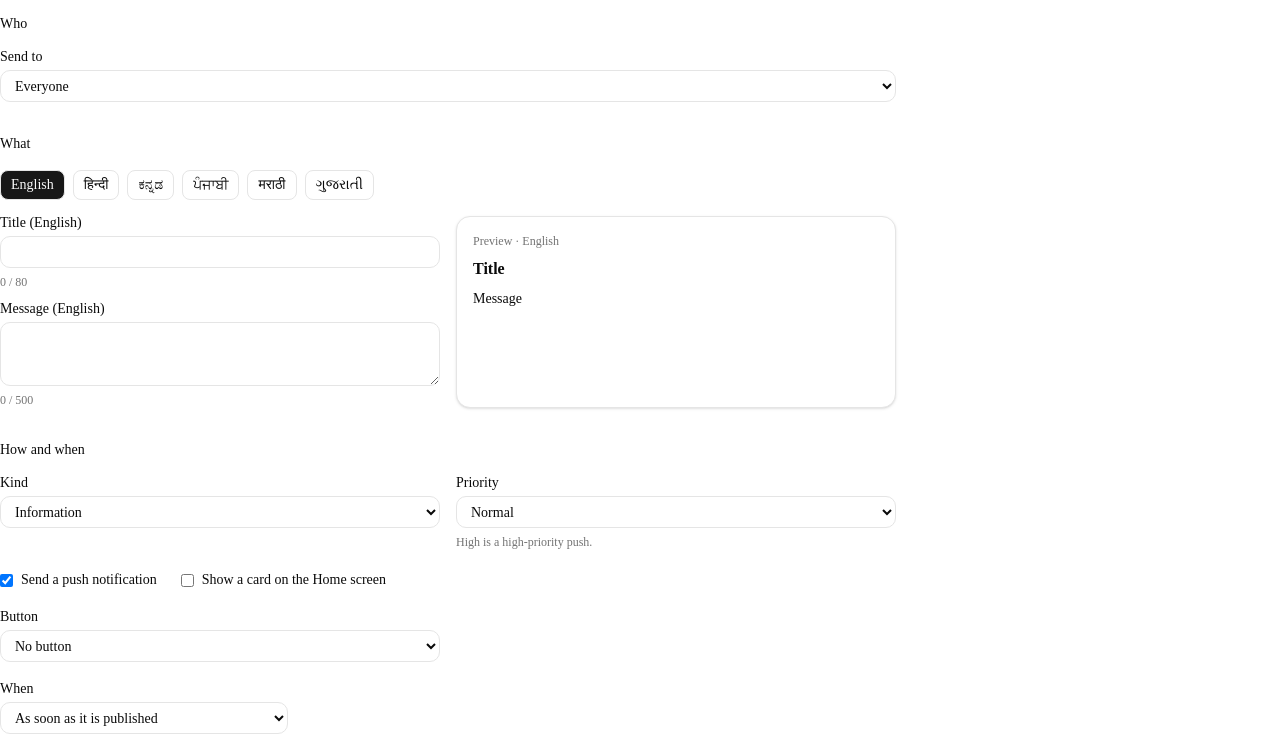
Scenario: publishing a new announcement › cannot be edited, or started twice, while the draft is being saved and counted
Type "Get 10% extra" into the field labelled "Title (English)" at (220, 252), box [0,236,440,268]
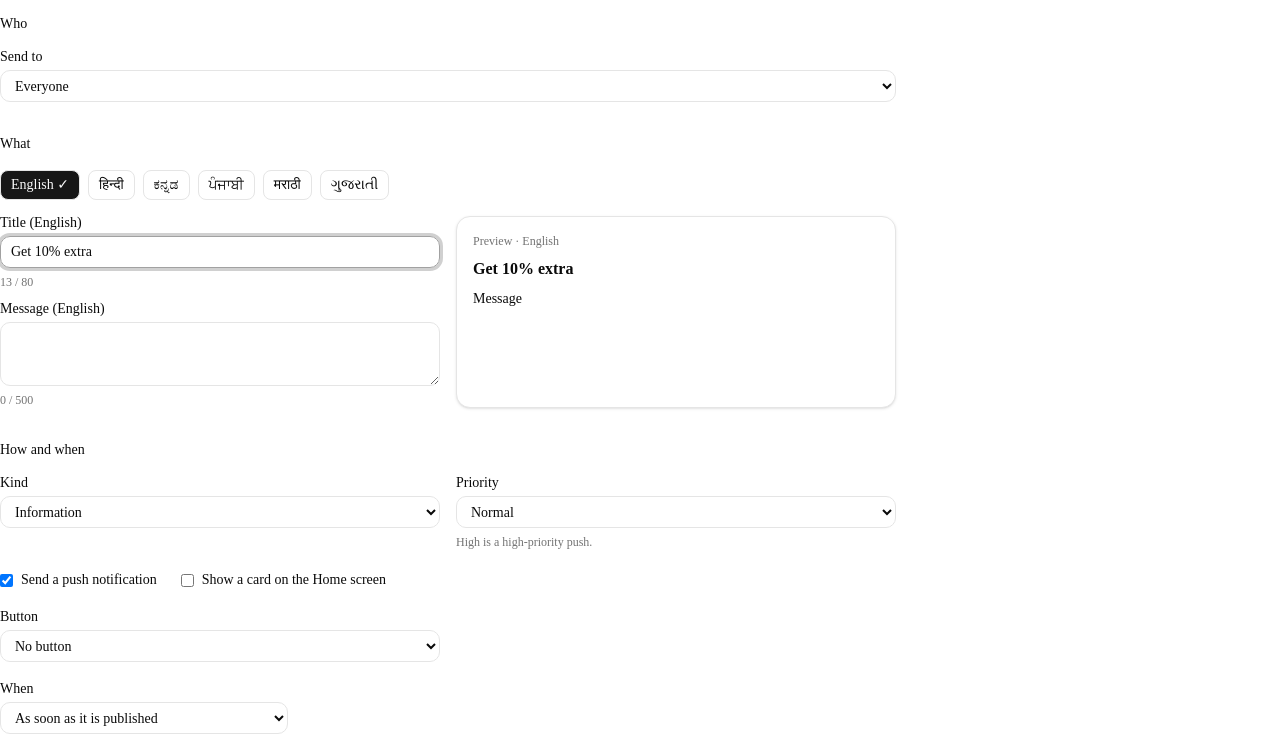
Type "Recharge this week." into the text box labelled "Message (English)" at (220, 354), box [0,322,440,386]
(page scrolled)
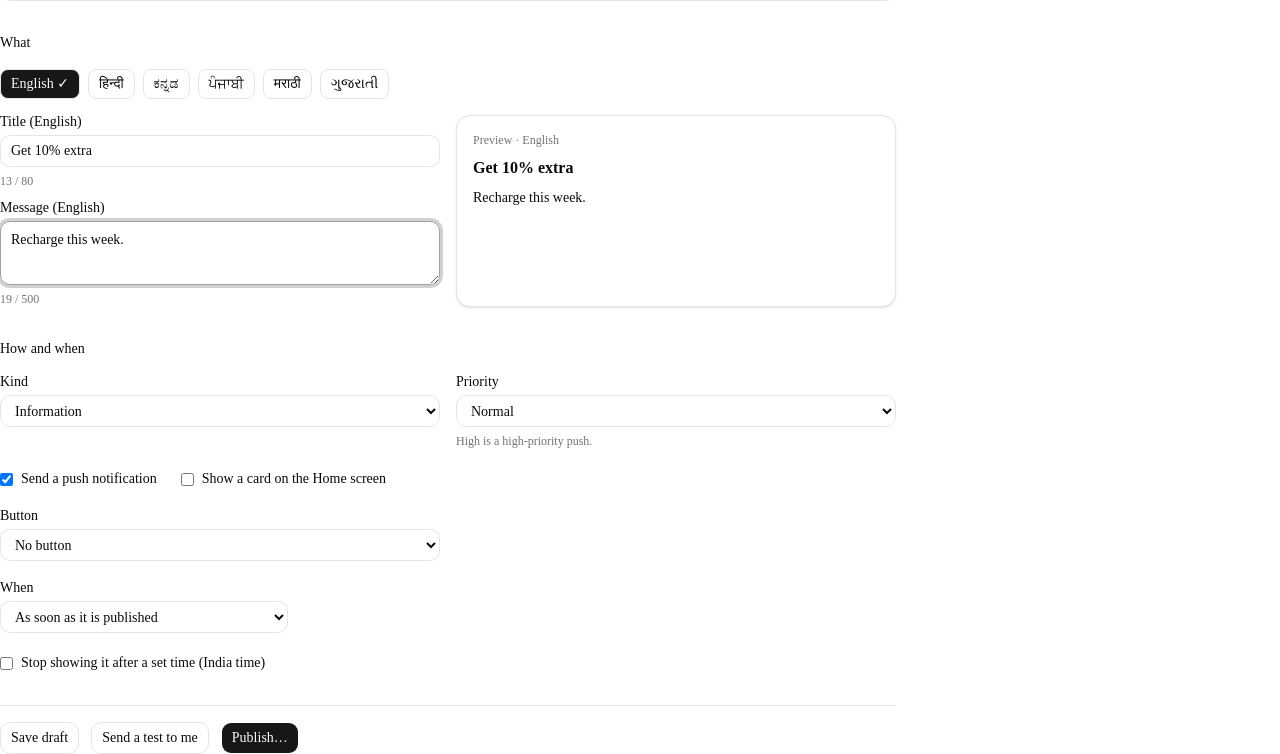
Click the button "Publish…" at (260, 738), box [221,722,299,753]
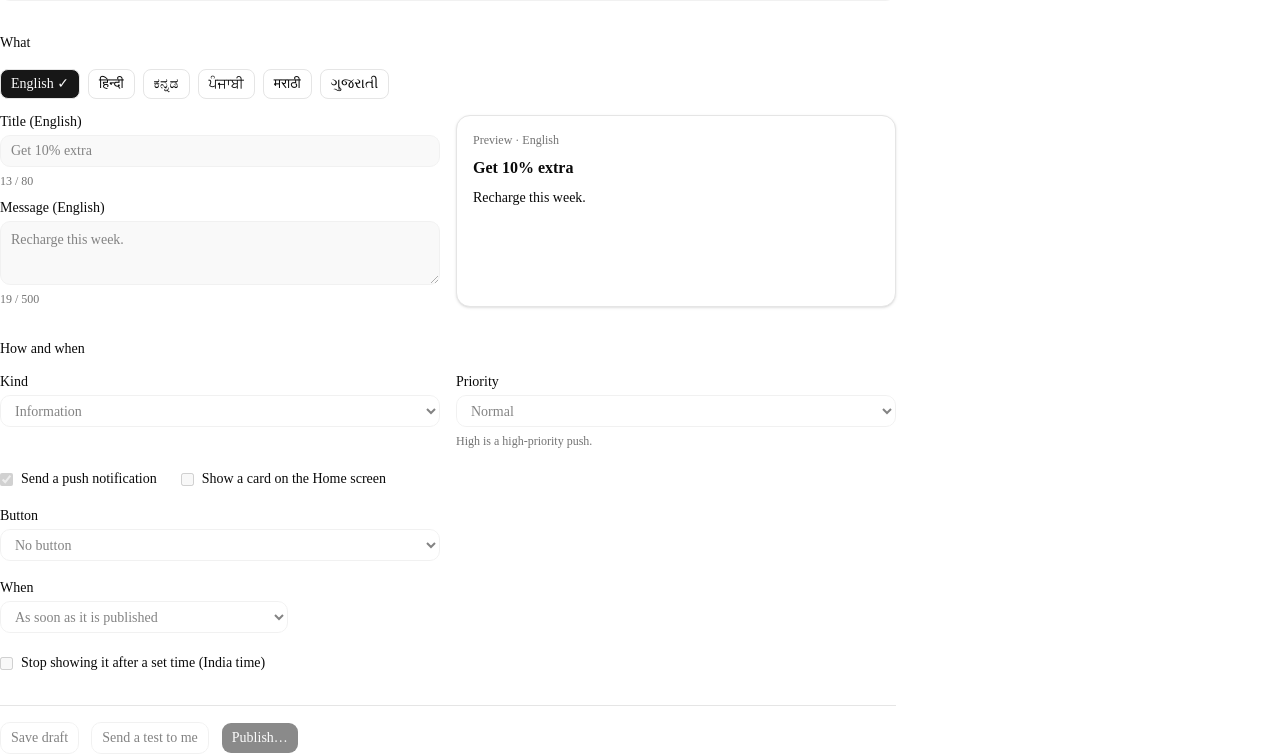
Expected: the button "Publish…" is disabled
Expected: the field labelled "Title (English)" is disabled, [0,135,440,167]
Expected: the text box labelled "Message (English)" is disabled, [0,221,440,285]
Click the button "Publish…" at (260, 738), box [221,722,299,753]
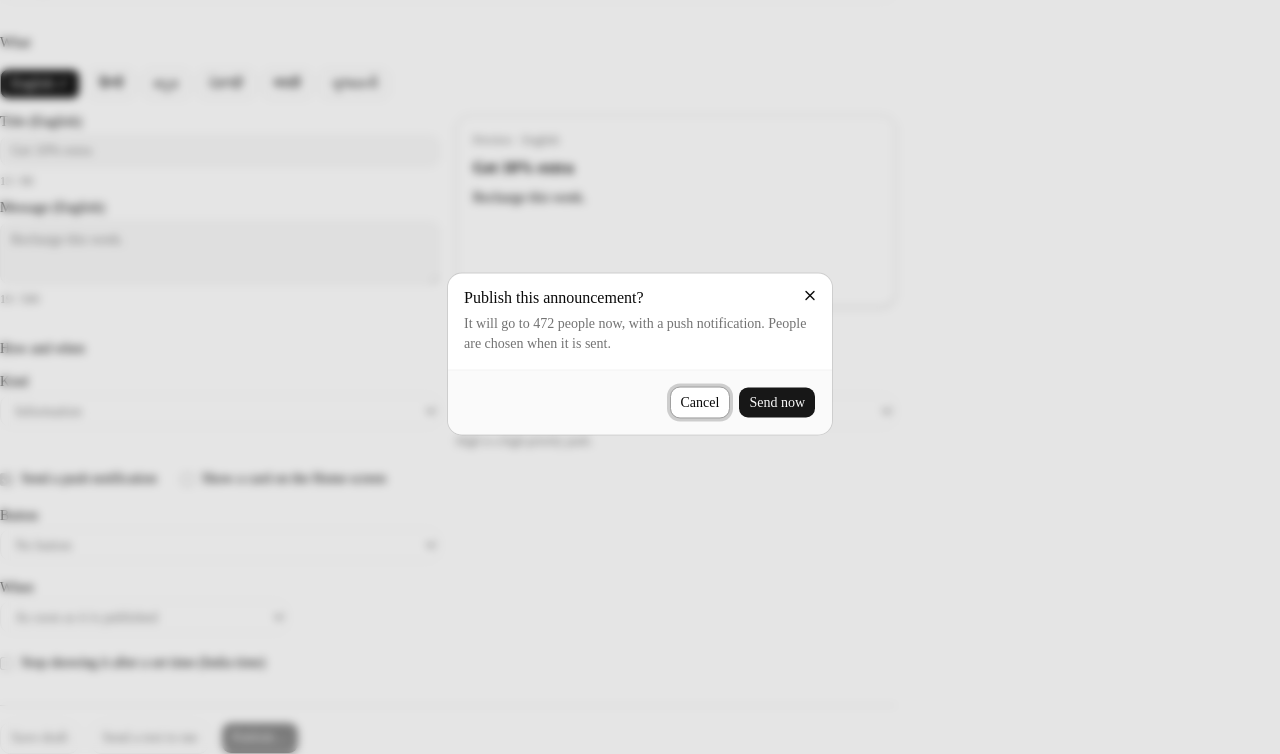
Expected: the text "472 people" is shown, [464,316,806,350]
